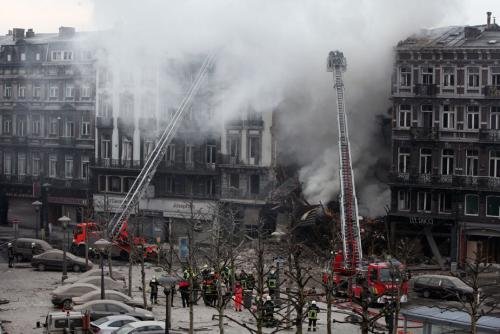smoke: (104, 9, 385, 209)
